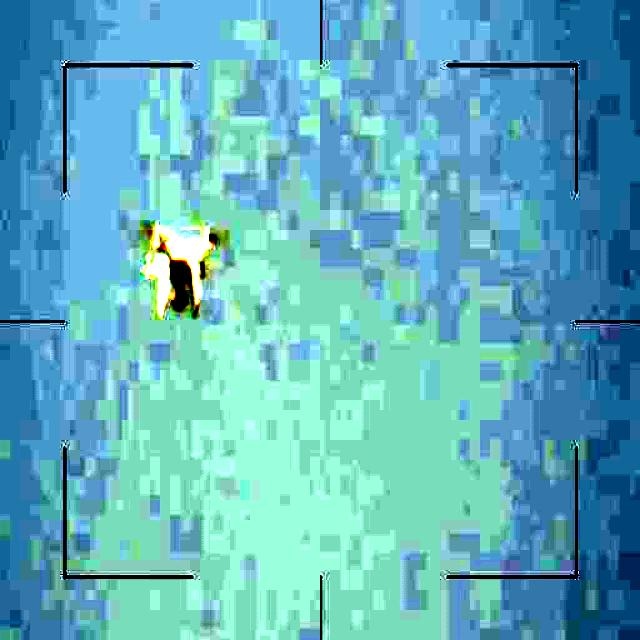bird: (131, 211, 225, 325)
